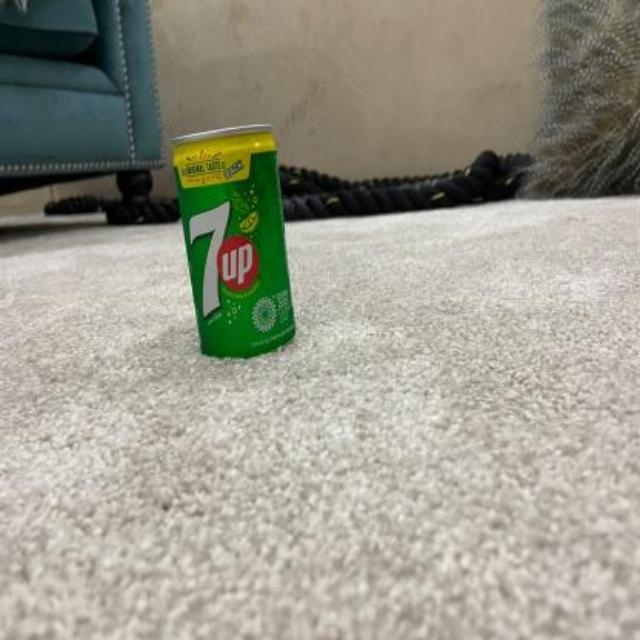metal: (172, 126, 294, 357)
